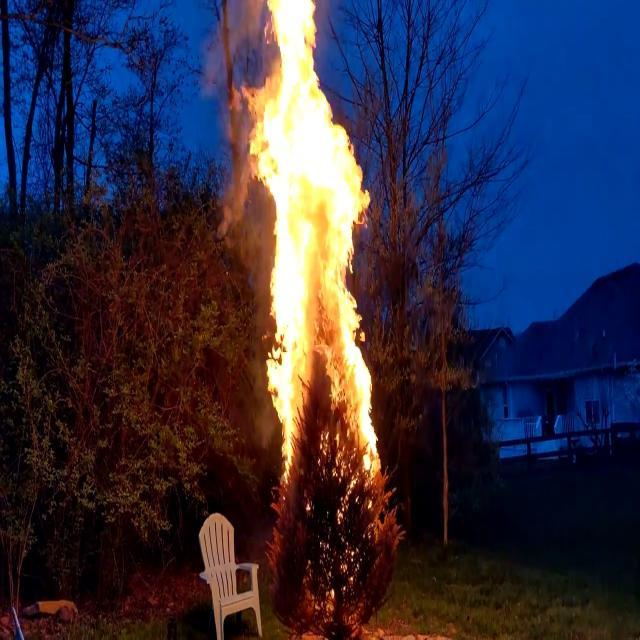Fire: (237, 1, 381, 490)
